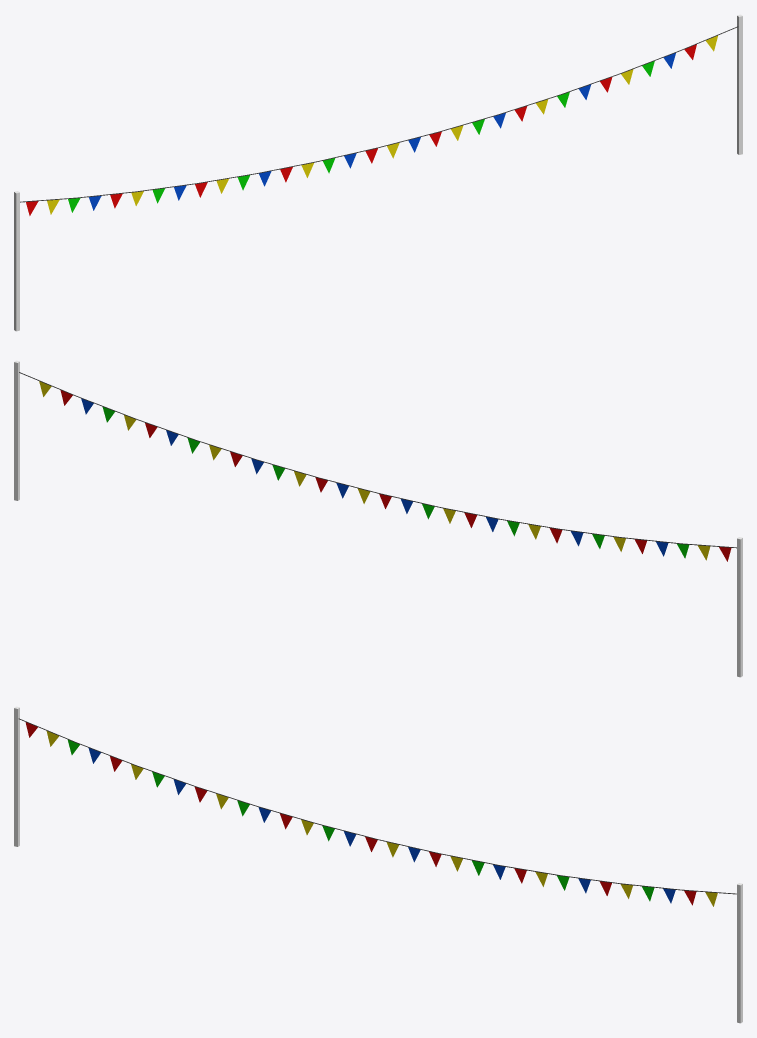
The model's file is 10 Festoon_flags.FBX.
The picture shows the model from 3 angles, top to bottom: view 1: azimuth 30°, elevation 25°; view 2: azimuth 150°, elevation 25°; view 3: azimuth 330°, elevation 25°; orthographic projection.
Visible parts, largest first — view 1: Festoon_flags; view 2: Festoon_flags; view 3: Festoon_flags.
Boxes of the visible parts, x1,y1,x2,y2 form: Festoon_flags: (14,14,742,331); Festoon_flags: (14,360,742,677); Festoon_flags: (14,706,742,1023).
Bounding box in the file's own units: 9379 × 1703 × 50.
